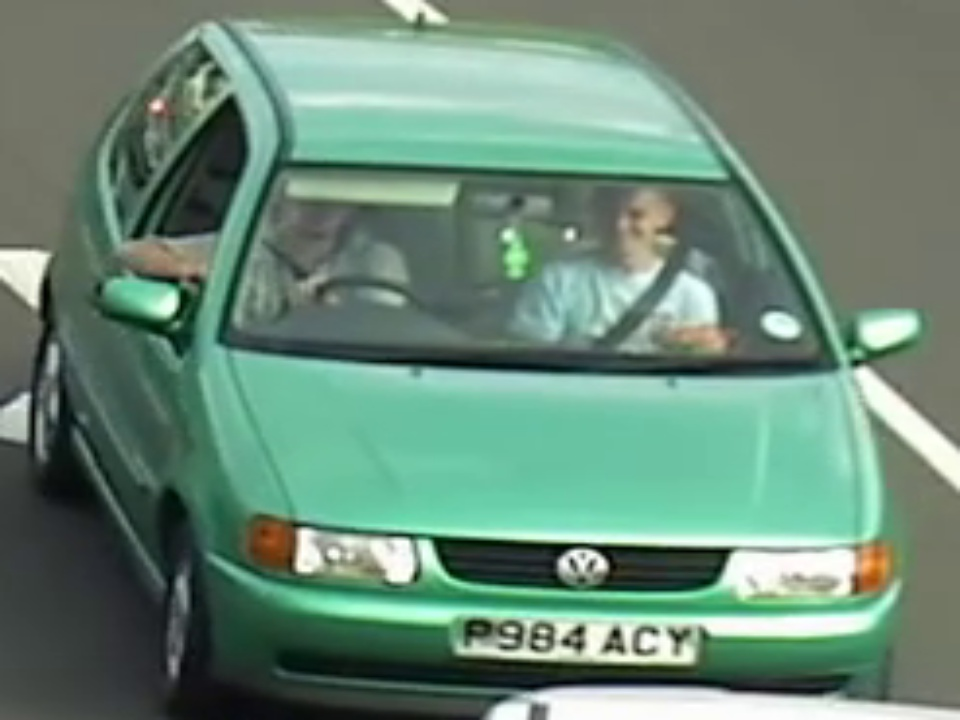TWO: (240, 155, 810, 375)
